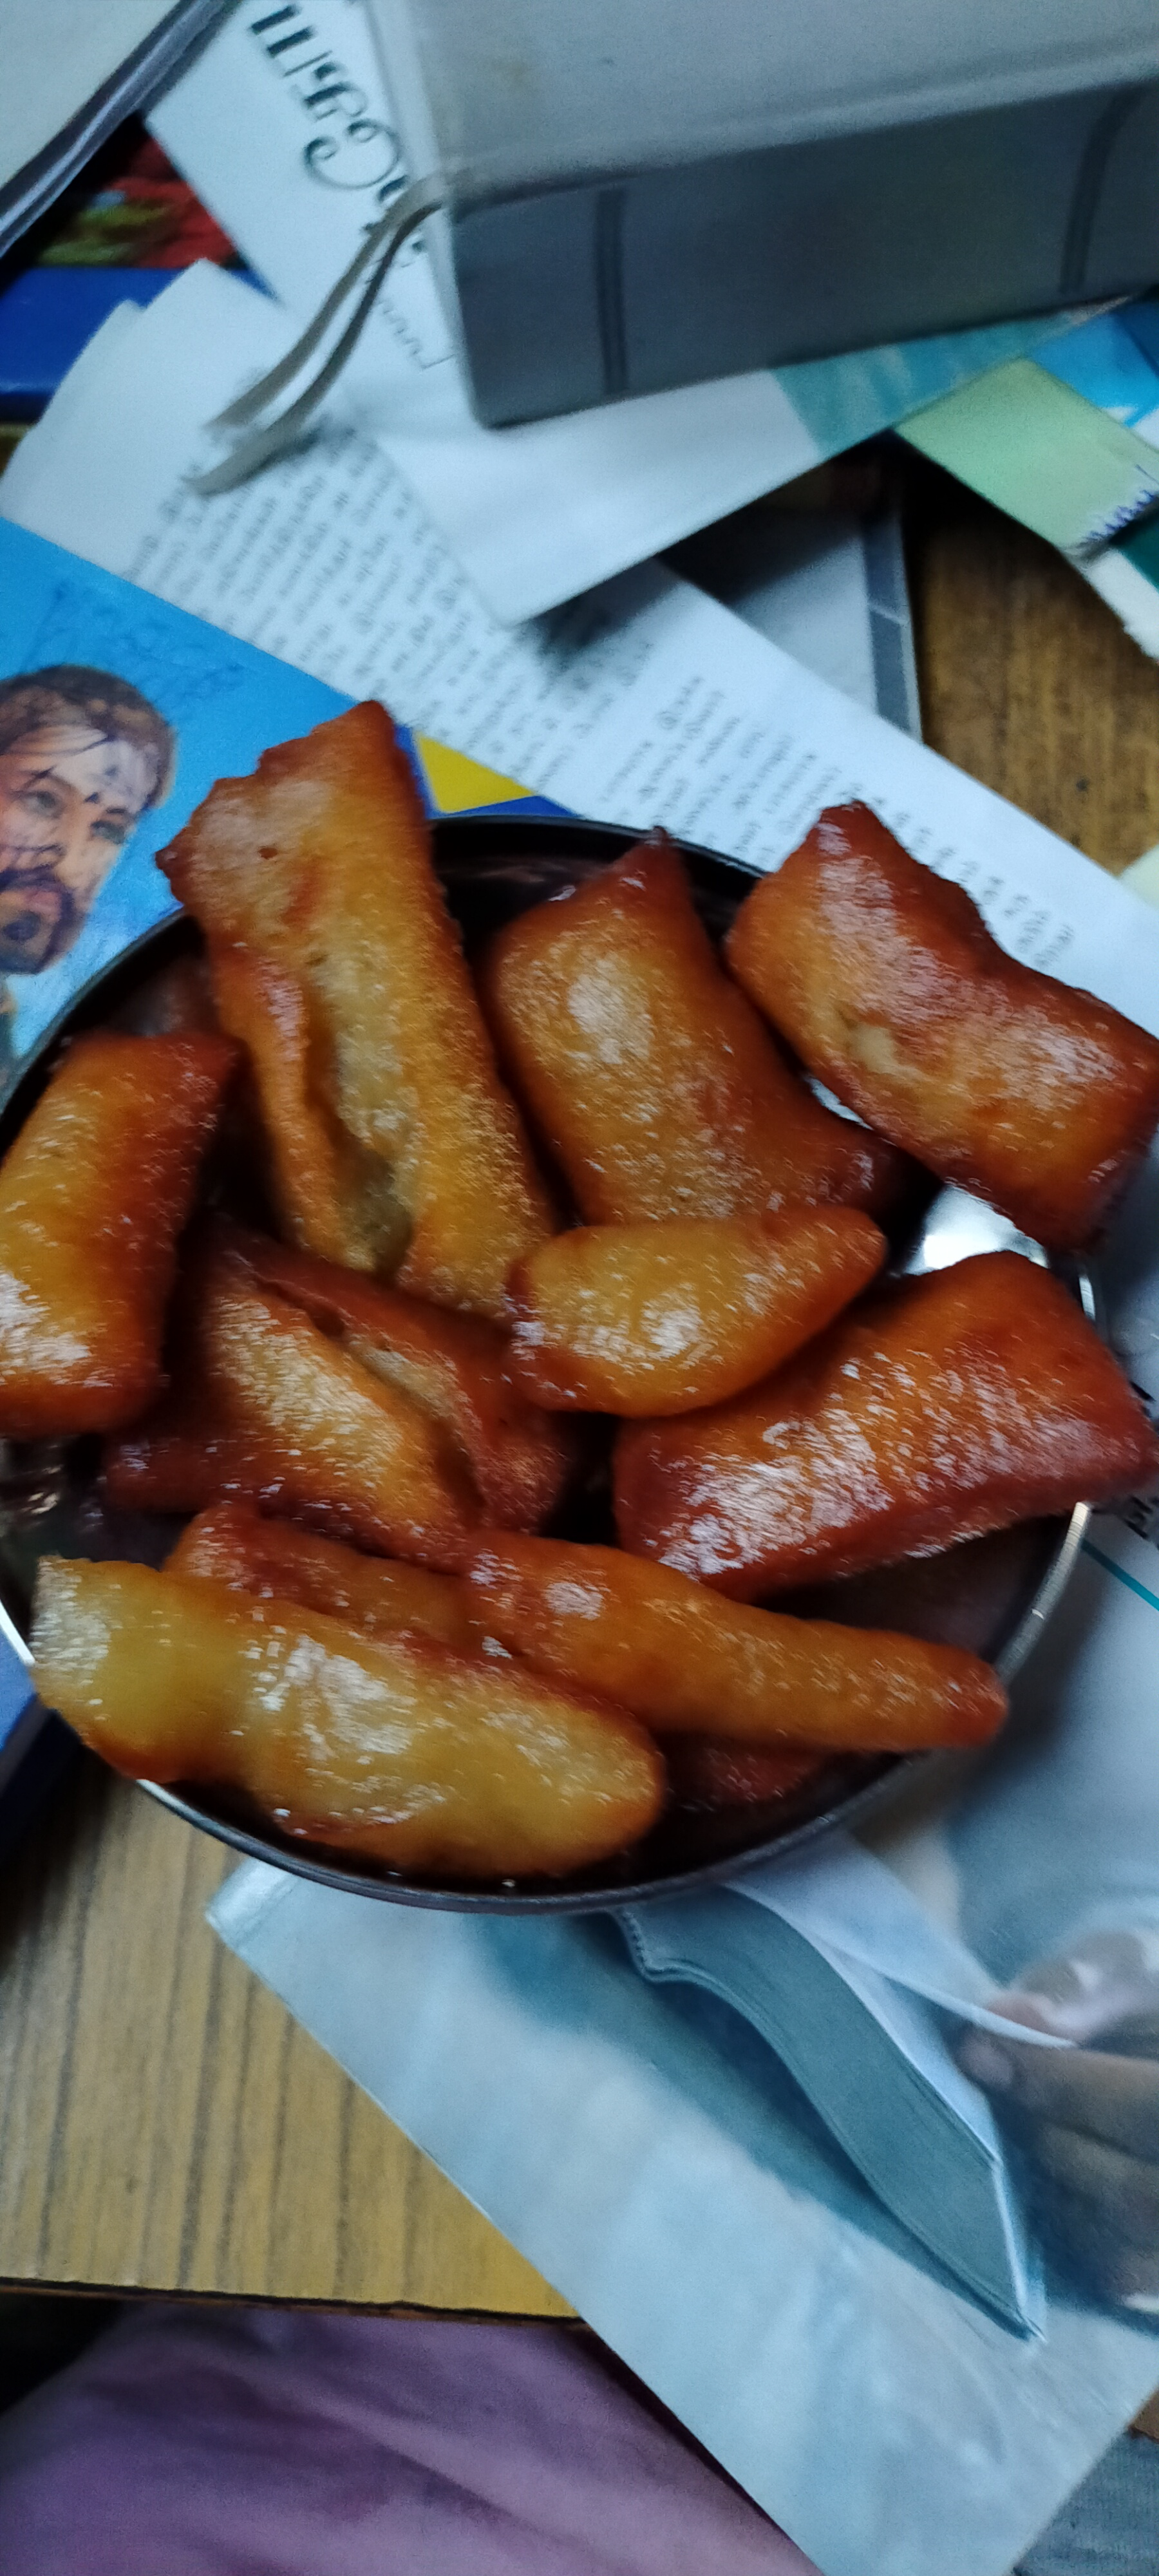food: (0, 690, 1159, 1896)
